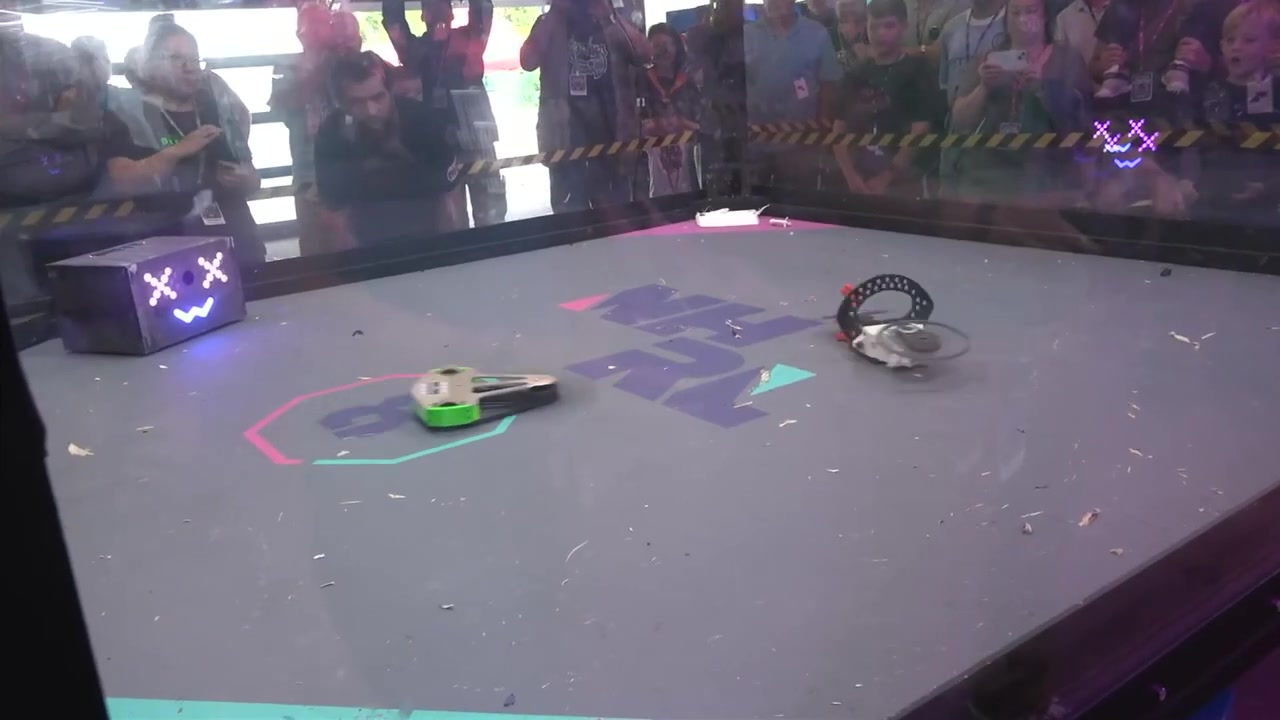combatbot: (829, 274, 968, 370), (410, 367, 560, 431)
housebot: (48, 235, 245, 354)
minibot: (694, 208, 759, 226)
